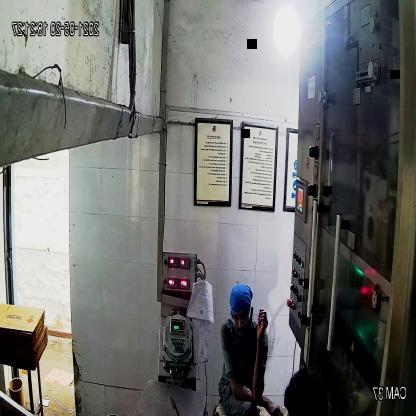goggles: (228, 307, 255, 328)
